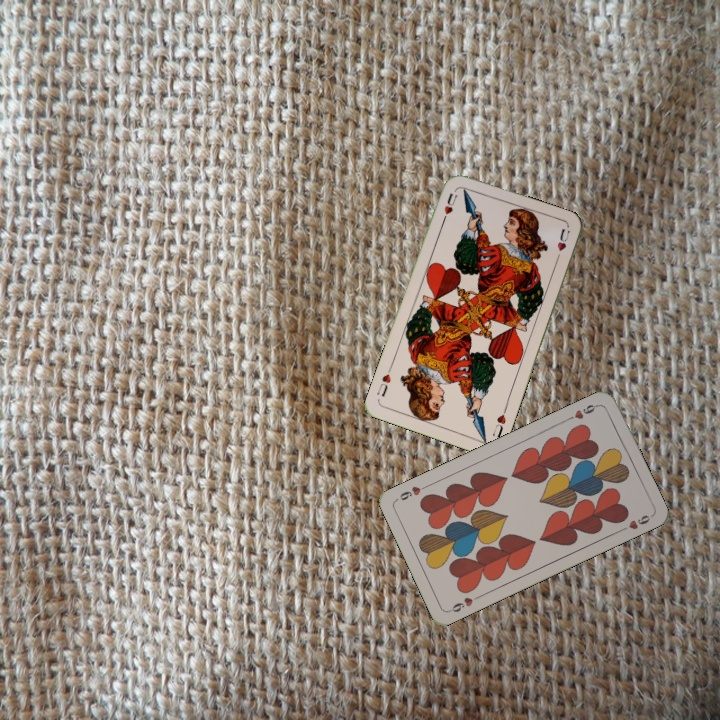H9: (445, 591, 483, 615), (563, 400, 602, 423)
HU: (488, 404, 510, 441), (440, 189, 460, 217)
